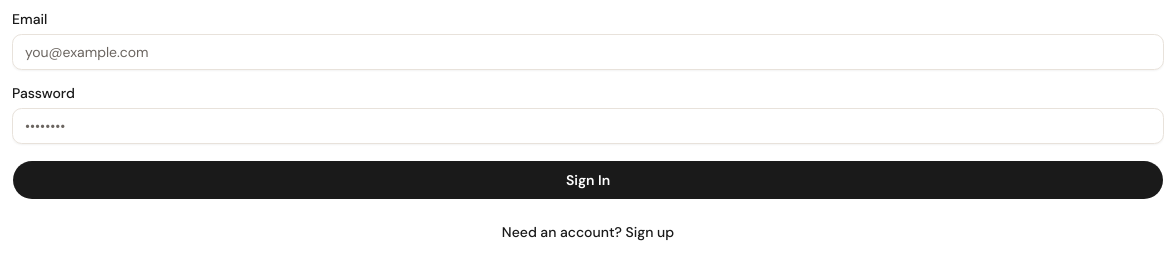
AuthForm › should toggle back to sign in mode
Click the button "Need an account? Sign up" at (588, 232), box [12,216,1164,248]
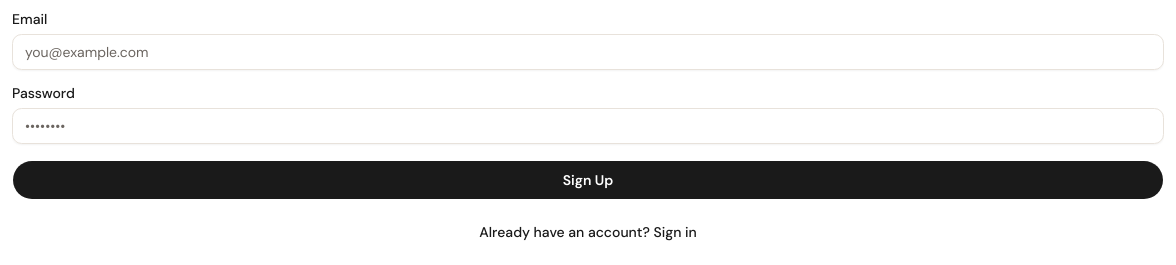
Click the button "Already have an account? Sign in" at (588, 232), box [12,216,1164,248]
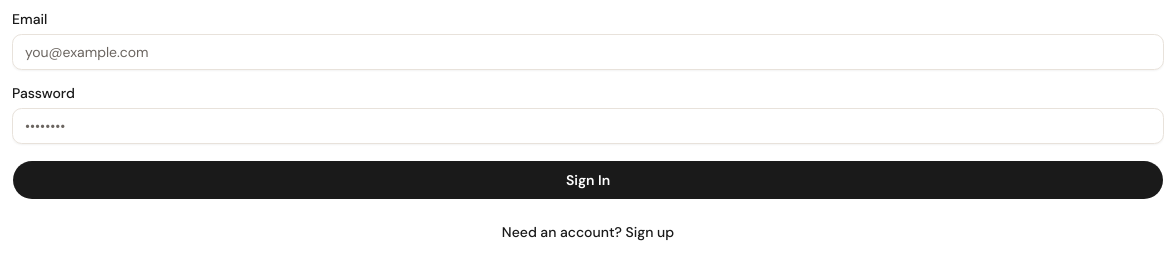
Now the button "Sign In" is shown, box [12,160,1164,200]
